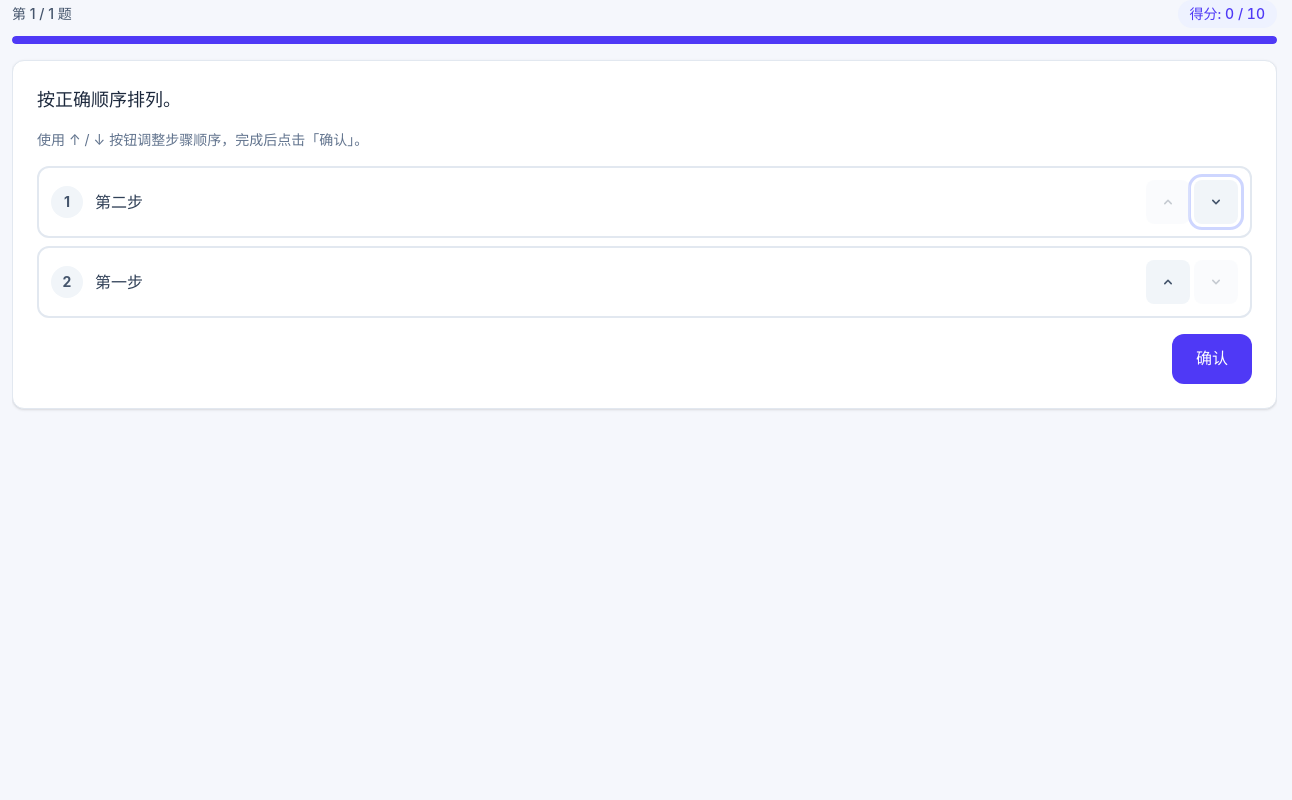
Test case: drag-assemble retry evidence › records a second wrong order as the final failed attempt
This screenshot has width=1292, height=800.
Click the button "确认" at (1212, 359), box [1172, 334, 1252, 384]
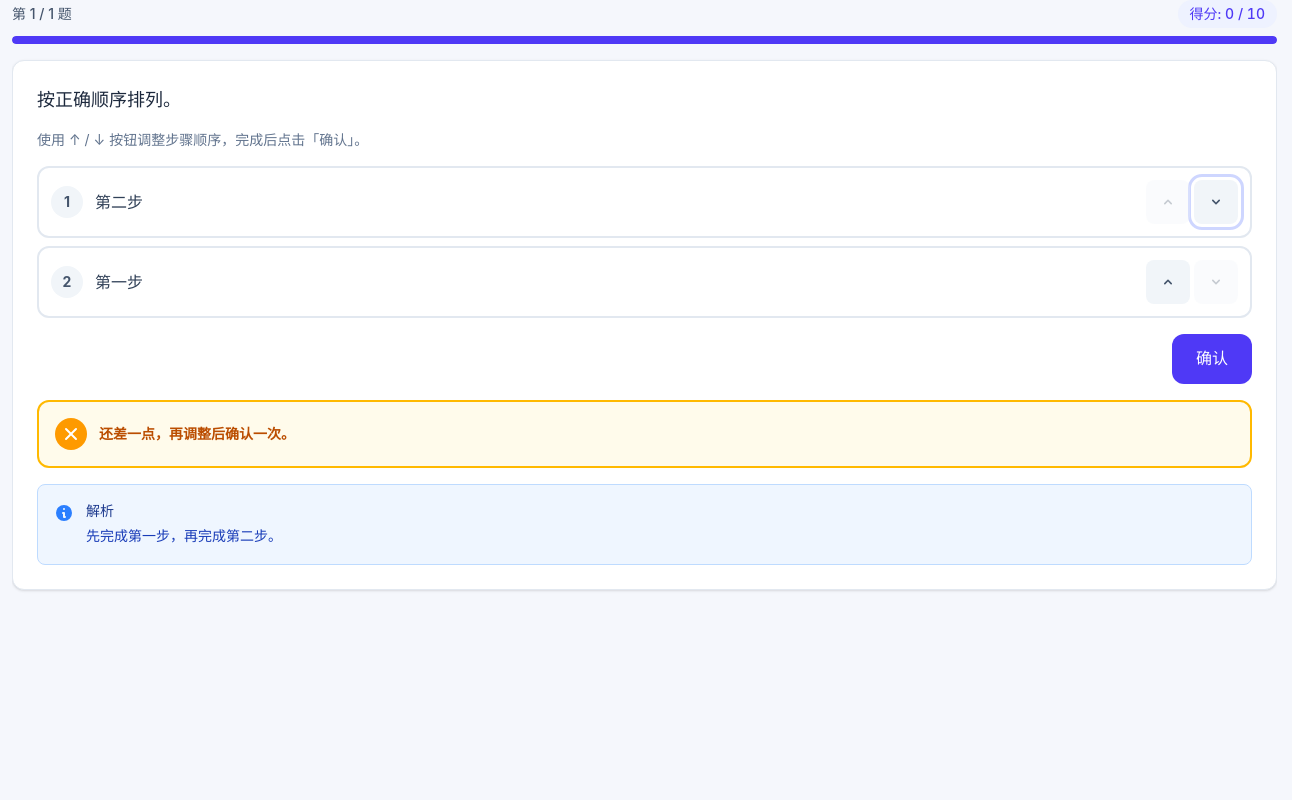
Click the button "确认" at (1212, 359), box [1172, 334, 1252, 384]
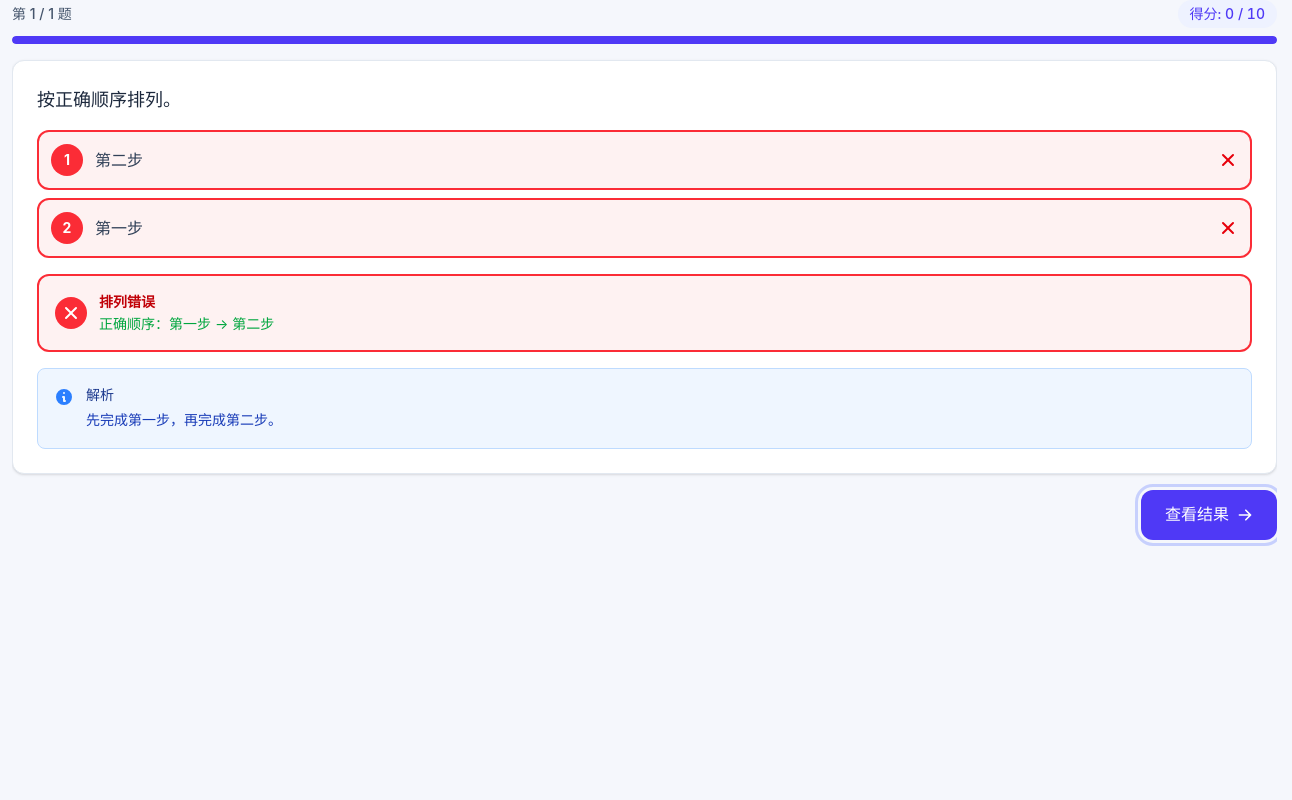
Result: the text "正确顺序：第一步 → 第二步" is shown at [99, 315, 274, 332]
